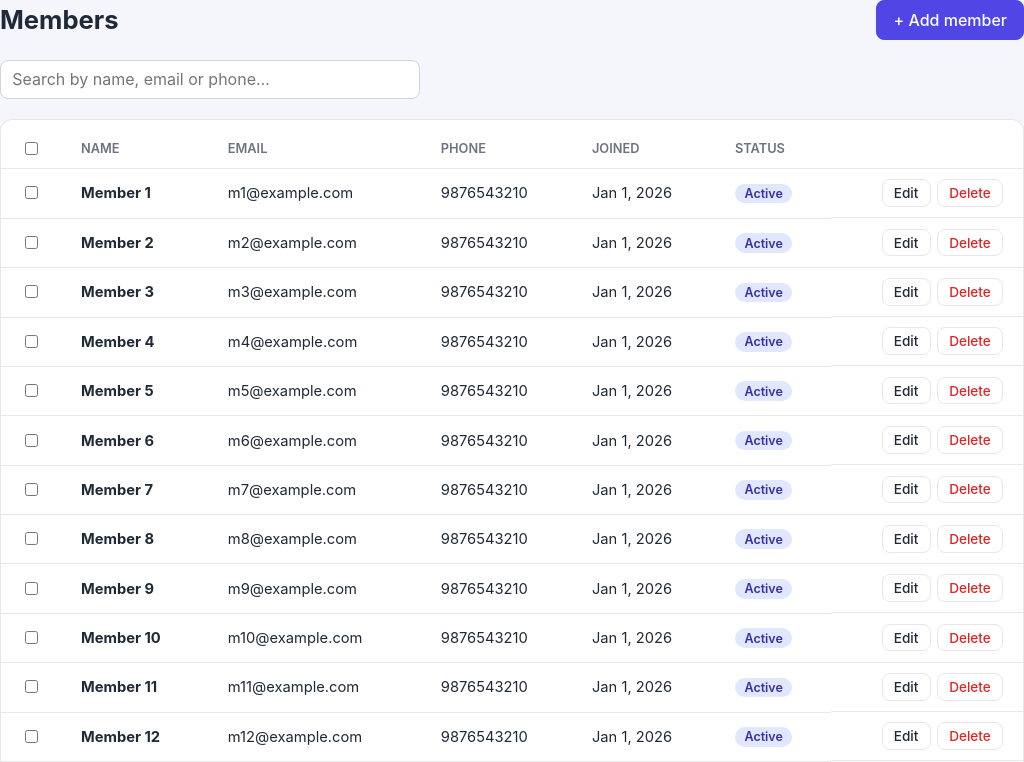
Test: MembersPage › prevents submission and shows validation error stating maximum is 50 when > 50 members are selected
The width and height of the screenshot is (1024, 762).
Expected: the text "Member 1" is shown, [81, 184, 151, 202]
Note: Select all 55 members using master checkbox
Click the checkbox named "Select all active members" at (32, 148), box [25, 142, 38, 155]
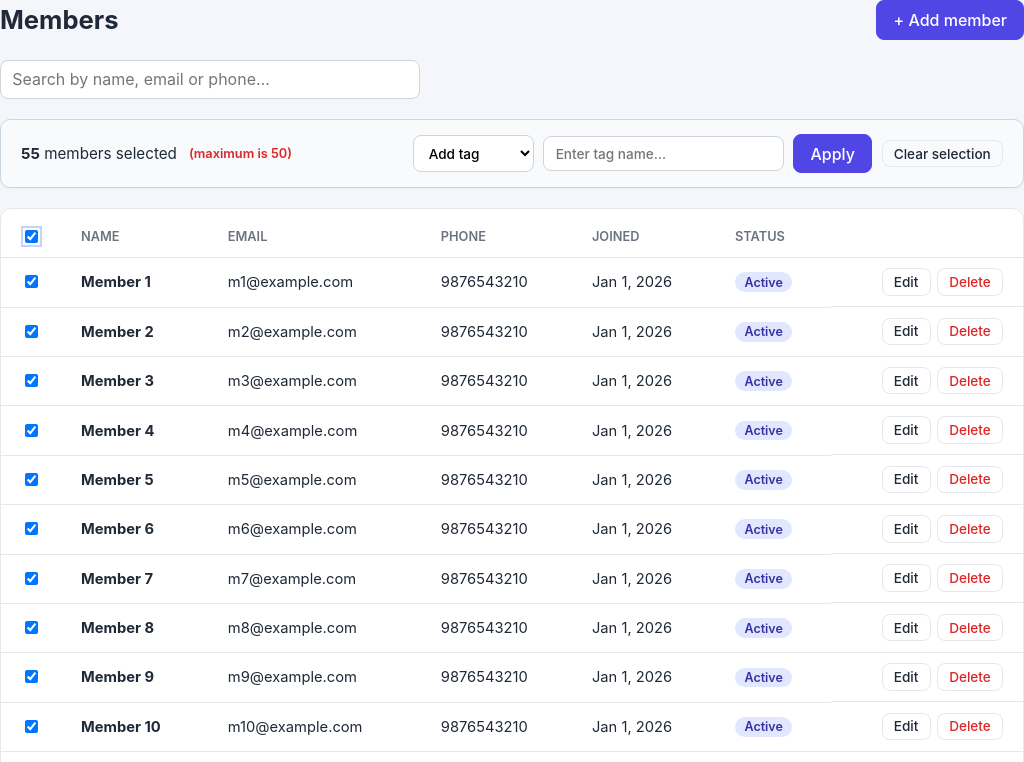
Expected: the text "55" is shown, [21, 144, 40, 163]
Expected: the text "(maximum is 50)" is shown, [189, 146, 292, 161]
Note: Enter a tag and attempt submission
Type "alumni" into the field labelled "tag name" at (664, 154), box [544, 136, 784, 171]
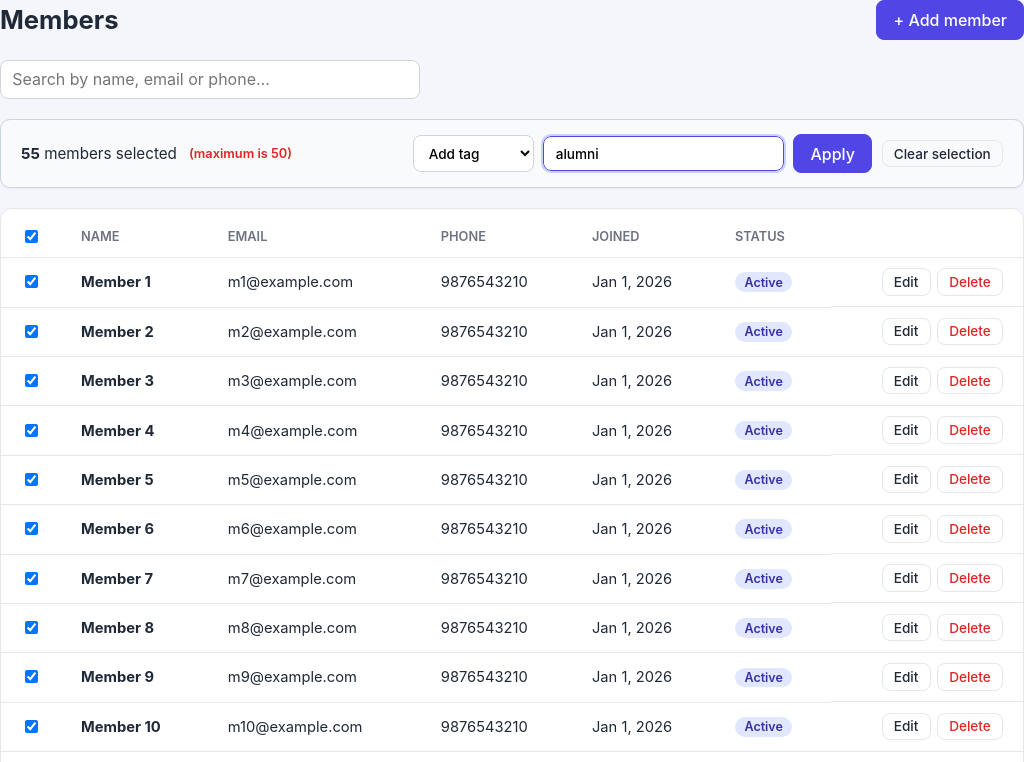
Click the button "Apply" at (833, 154), box [793, 134, 872, 173]
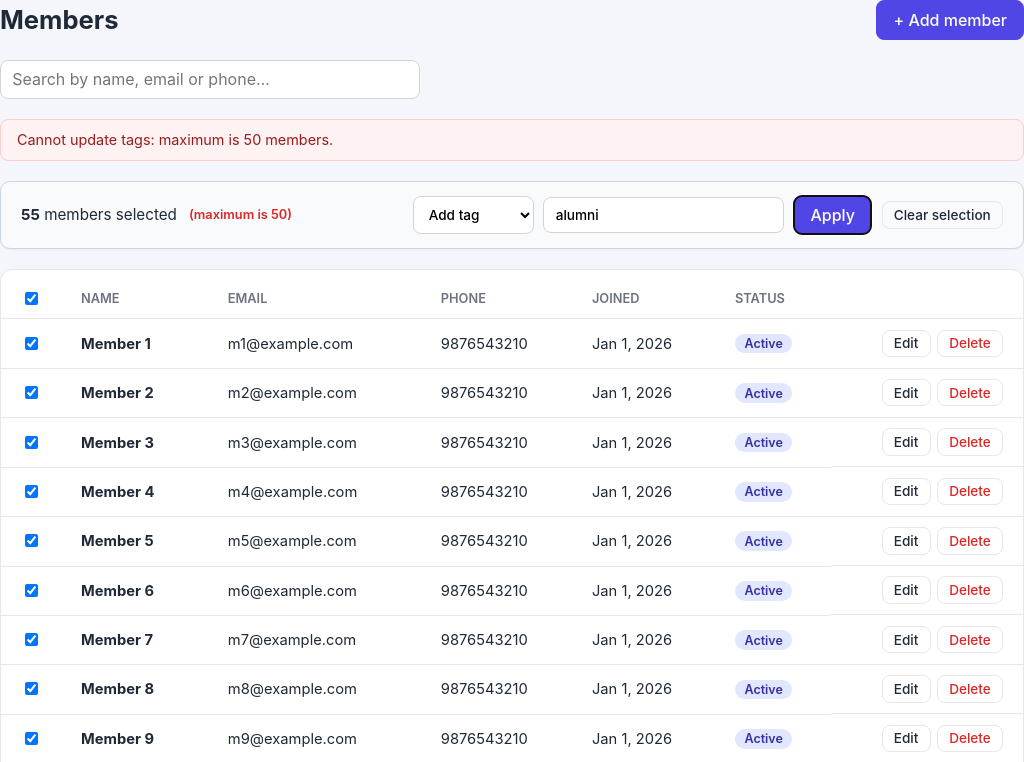
Expected: the message shows "maximum is 50", [17, 131, 333, 148]
